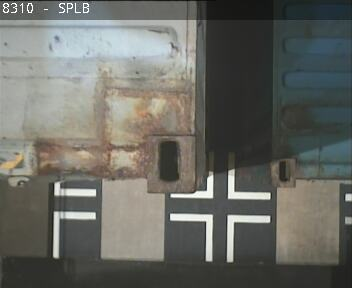groundmarker_1: (169, 212, 270, 263), (170, 150, 271, 199), (53, 182, 96, 259)
